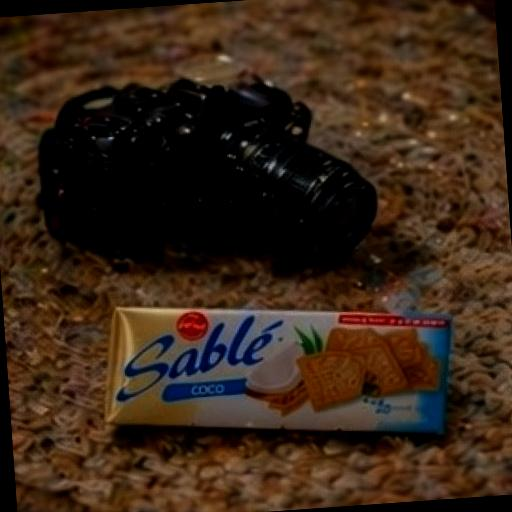sable: (56, 222, 500, 512)
